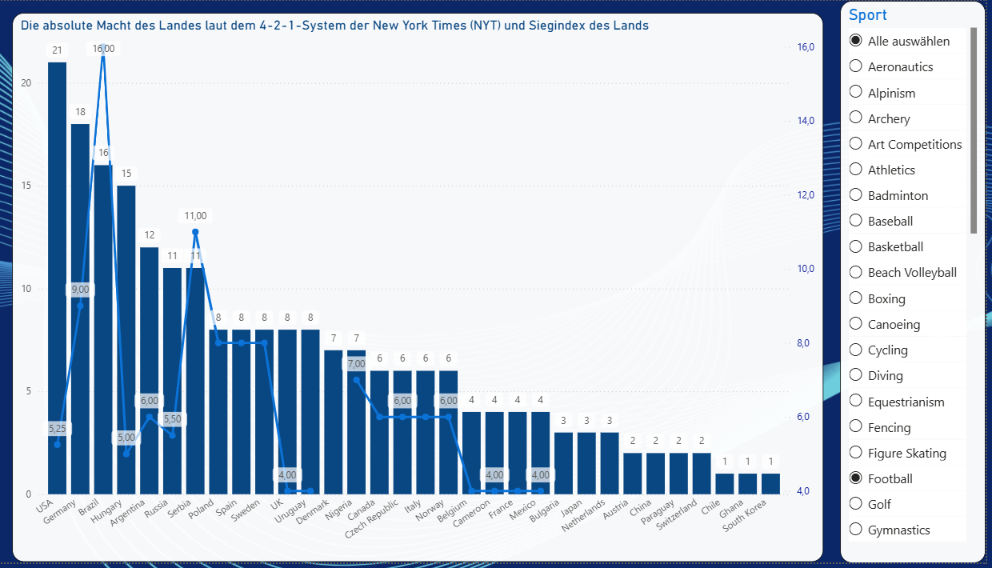

What the dashboard file says about the page in this screenshot:
{"tool":"powerbi","page":{"name":"421-NYT und Siegindex nach Sport","canvas":[1280,720],"ordinal":2},"visuals":[{"type":"listSlicer","title":"Sport","fields":{"Values":["public dim_sport.sport"]},"box":[1093.5,0,186.5,720.4],"z":0},{"type":"lineStackedColumnComboChart","title":"Die absolute Macht des Landes laut dem 4-2-1-System der New York Times (NYT) und Siegindex des Lands ","fields":{"Category":["public dim_country.country"],"Y":["metrics.Total_Points_421"],"Y2":["metrics.Siegindex"]},"box":[32,16,1040,704],"z":1000}]}

Visuals, with their boxes in screenshot pixels (x1, y1, x2, y2), scaled from the page's 1280x720 canvas onto the 992x568 screenshot:
"Sport" listSlicer: locate(847, 0, 991, 567)
"Die absolute Macht des Landes laut dem 4-2-1-System der New York Times (NYT) und Siegindex des Lands " lineStackedColumnComboChart: locate(25, 13, 831, 567)
